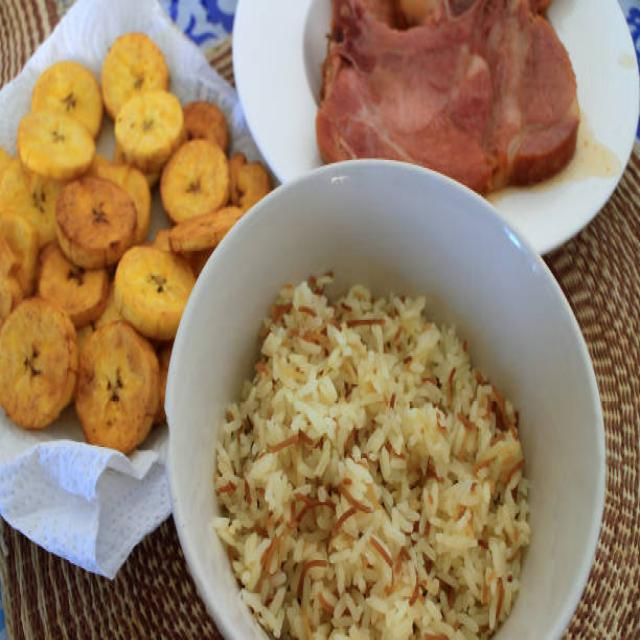BANANA CHIPS: (0, 35, 274, 450)
RICE: (216, 275, 527, 638)
